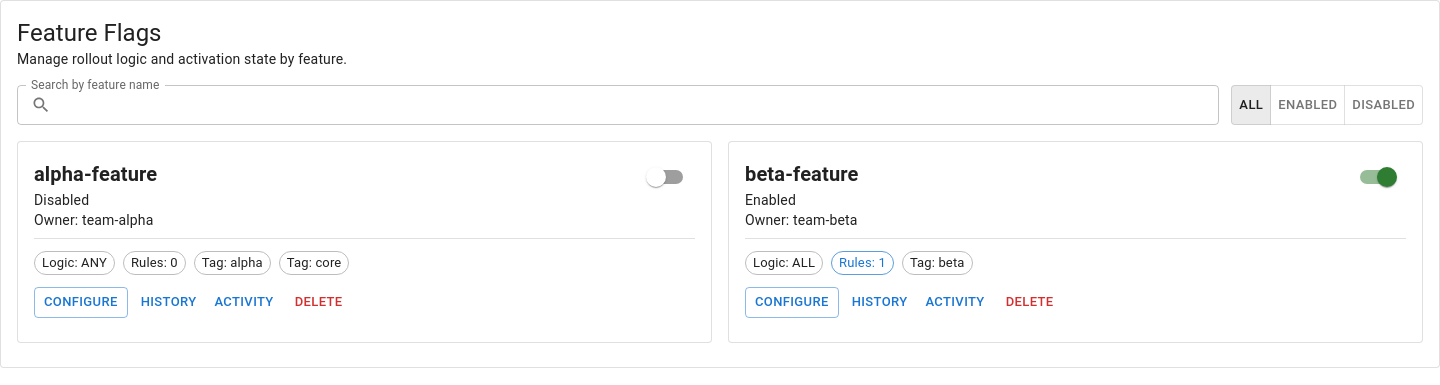
Test: FeatureGrid › shows empty state when no flags match
Type "not-found" into the field labelled "Search by feature name" at coordinates (639, 105), box x1=59 y1=85 x2=1219 y2=125
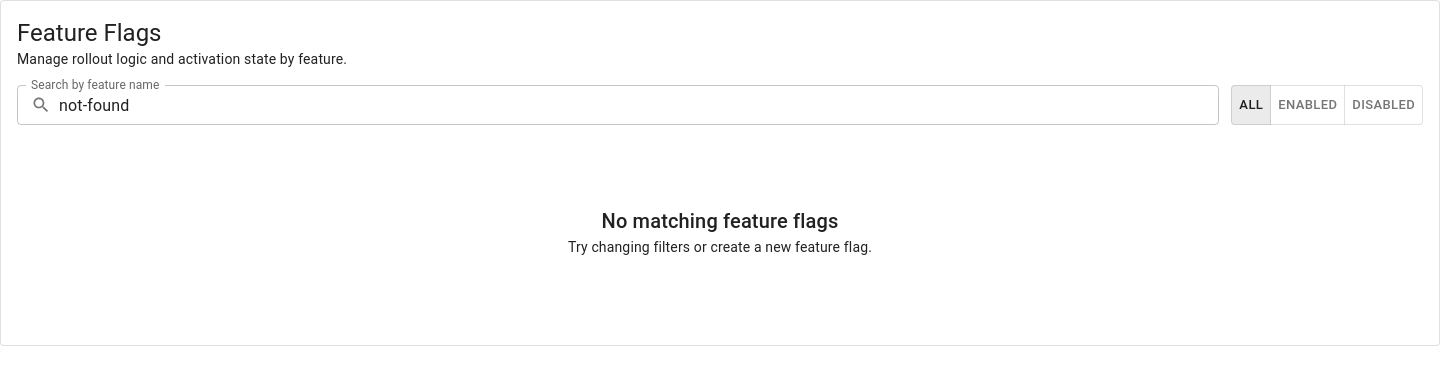
Now the heading "No matching feature flags" is shown, box x1=602 y1=209 x2=838 y2=233
Now the text "Try changing filters or create a new feature flag." is shown, box x1=568 y1=239 x2=872 y2=255
